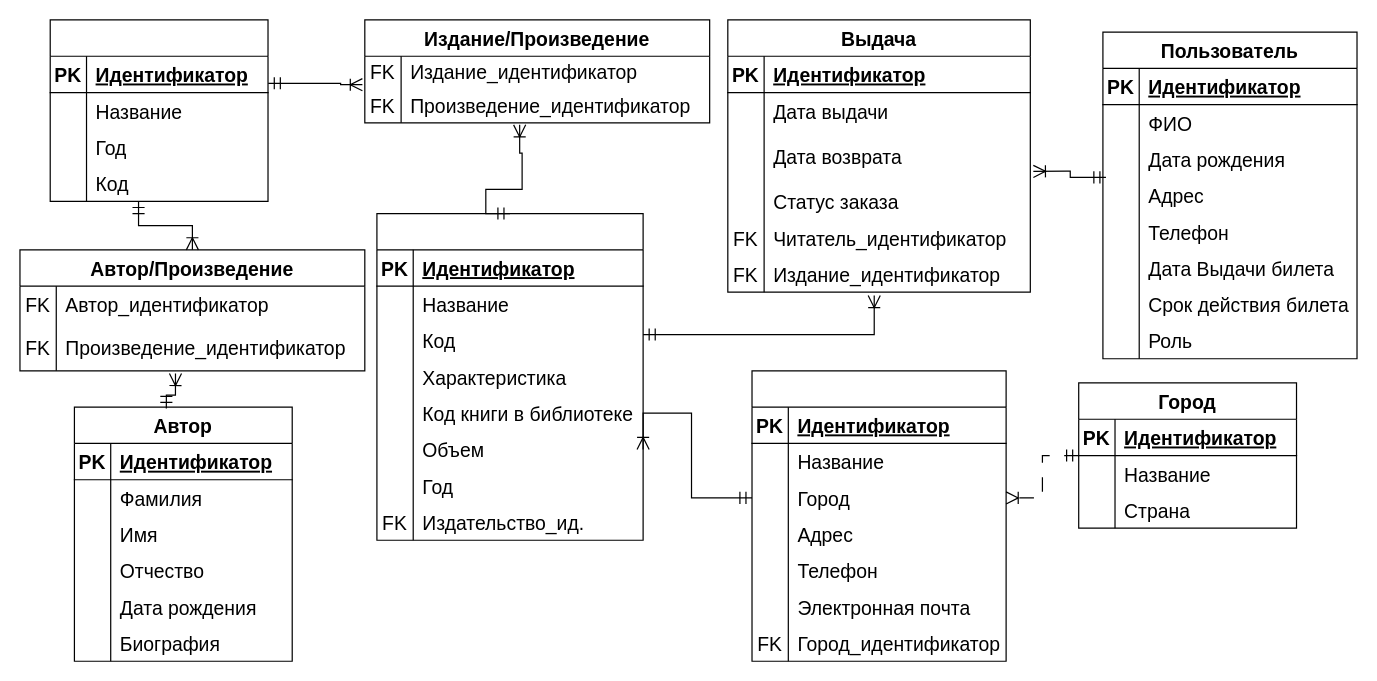
Image size: 1377x681. Some labels were removed from this diagram. The box of each missing label's shape, as (x1, y1, x2, y2) in pixels:
Издание: (376, 212, 643, 540)
Издательство: (751, 370, 1006, 661)
Произведение: (49, 19, 268, 201)
